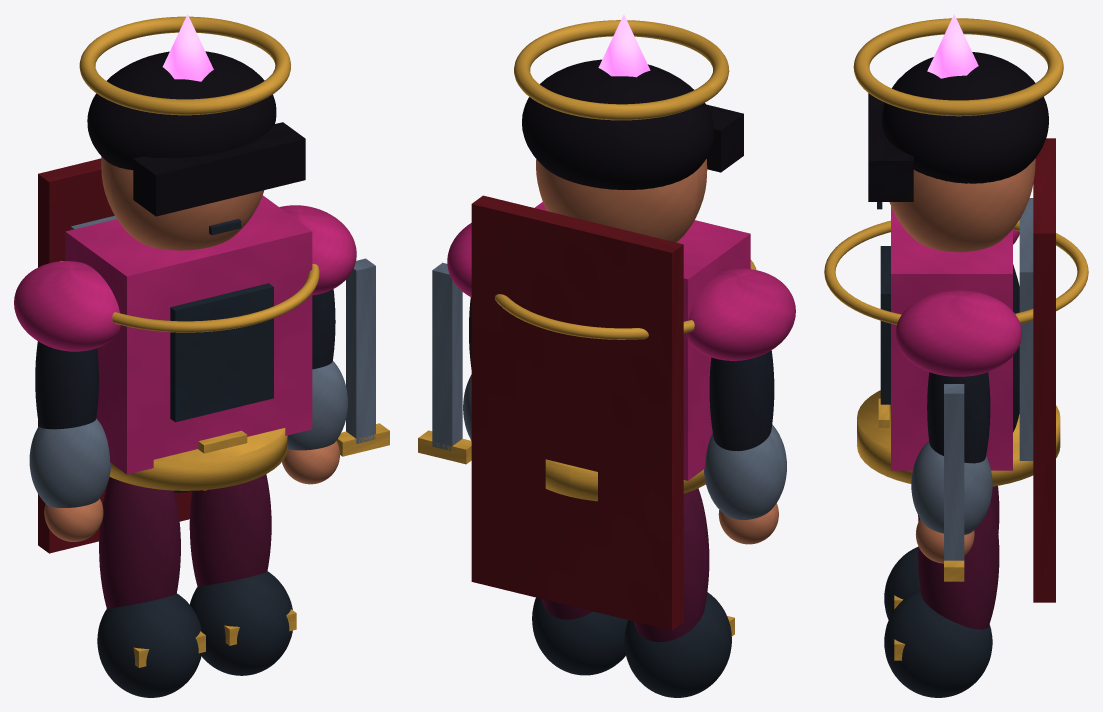
File: Mastery.glb
The picture shows the model from 3 angles, left to right: view 1: azimuth 30°, elevation 25°; view 2: azimuth 150°, elevation 25°; view 3: azimuth 270°, elevation 25°; orthographic projection. The views are drawn at different scales.
Parts seen in each view (by area): view 1: ChestPlate, Hair, ChestInset, HairFringe, Leg, Boot, Boot.001, Leg.001, Shoulder, CrownRing, Cape, Head (+13 smaller); view 2: Cape, Hair, Shoulder, CrownRing, ChestPlate, Head, Boot, Arm, Gauntlet, Dagger, Boot.001, Leg (+8 smaller); view 3: Hair, ChestPlate, Cape, Shoulder.001, Head, Boot.001, CrownRing, Leg.001, Gauntlet.001, Dagger, Arm.001, BackArmor (+9 smaller).
Part boxes in pixels (x1,y1,x2,y2): ChestPlate: [65, 195, 312, 474]; Hair: [87, 51, 276, 170]; ChestInset: [170, 283, 273, 422]; HairFringe: [133, 122, 305, 216]; Leg: [99, 477, 180, 608]; Boot: [97, 593, 201, 697]; Boot.001: [189, 571, 292, 675]; Leg.001: [189, 474, 271, 586]; Shoulder: [14, 261, 120, 351]; CrownRing: [79, 16, 290, 115]; Cape: [38, 158, 191, 553]; Head: [101, 156, 264, 250]; Cape: [471, 195, 683, 630]; Hair: [522, 59, 714, 189]; Shoulder: [686, 268, 795, 360]; CrownRing: [514, 20, 729, 120]; ChestPlate: [535, 202, 750, 480]; Head: [536, 159, 707, 242]; Boot: [624, 592, 731, 697]; Arm: [709, 350, 774, 451]; Gauntlet: [704, 424, 786, 519]; Dagger: [432, 262, 462, 450]; Boot.001: [532, 597, 627, 675]; Leg: [633, 488, 709, 641]; Hair: [882, 52, 1048, 183]; ChestPlate: [891, 206, 1012, 470]; Cape: [1033, 138, 1055, 602]; Shoulder.001: [895, 290, 1021, 376]; Head: [889, 158, 1035, 252]; Boot.001: [884, 590, 992, 697]; CrownRing: [853, 18, 1063, 116]; Leg.001: [918, 496, 999, 629]; Gauntlet.001: [911, 441, 992, 534]; Dagger: [944, 384, 964, 560]; Arm.001: [927, 372, 990, 463]; BackArmor: [1019, 198, 1033, 460].
Size of the model in its own units: 1.82 by 3.21 by 1.17.
12 materials, 9 textured.
